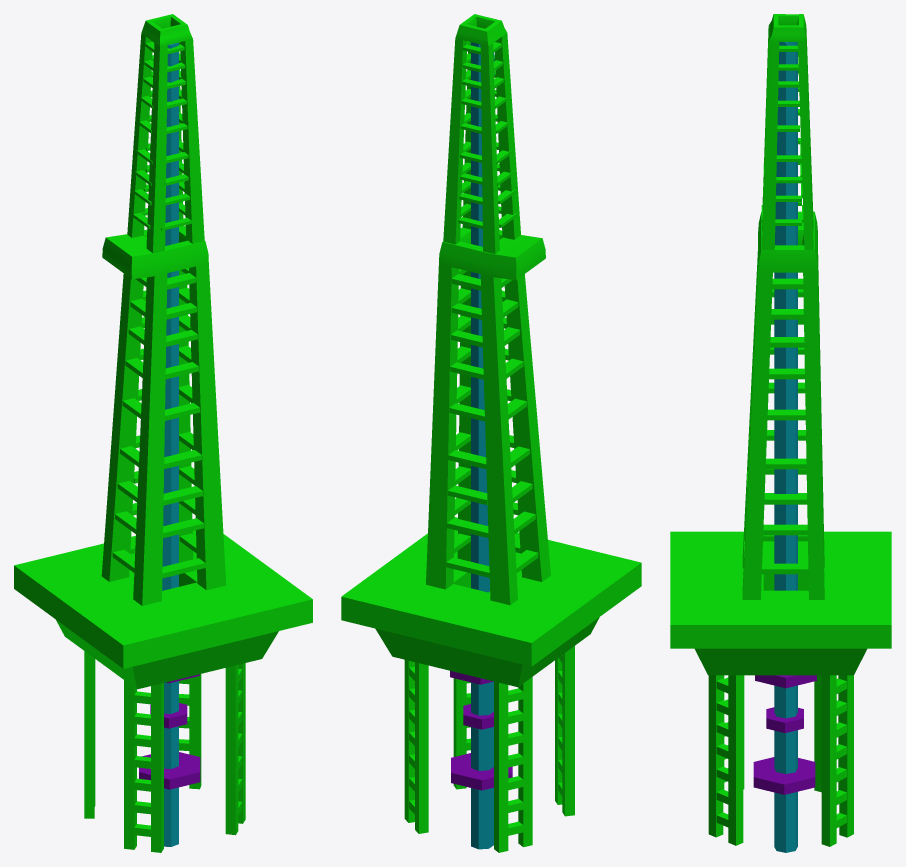
The model's file is Desert_Priority_target.fbx.
3 views of the same model, side by side, from view 1: azimuth 30°, elevation 25°; view 2: azimuth 150°, elevation 25°; view 3: azimuth 270°, elevation 25° (orthographic).
Visible parts, largest first — view 1: Rig, Drill; view 2: Rig, Drill; view 3: Rig, Drill.
Part boxes in pixels (<box>): Rig: <box>14,14,312,852</box>; Drill: <box>139,42,200,846</box>; Rig: <box>341,14,641,852</box>; Drill: <box>450,42,512,849</box>; Rig: <box>670,14,891,846</box>; Drill: <box>753,42,816,852</box>.
Size of the model in its own units: 99.56 by 411 by 99.56.
